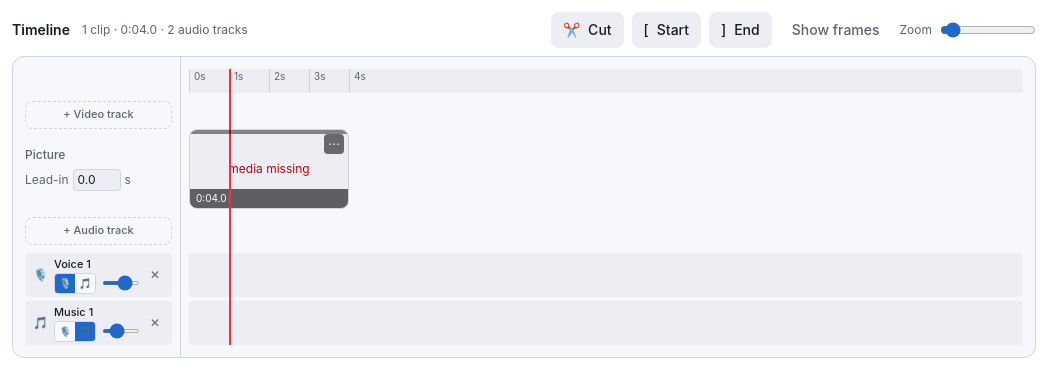
Test: marking an export range › offers Clear range only once something is marked, and puts the whole video back
This screenshot has width=1048, height=375.
Expected: the button "clear range" is not shown
Click the button "[ Start" at coordinates (666, 30), box left=632, top=12, right=701, bottom=48
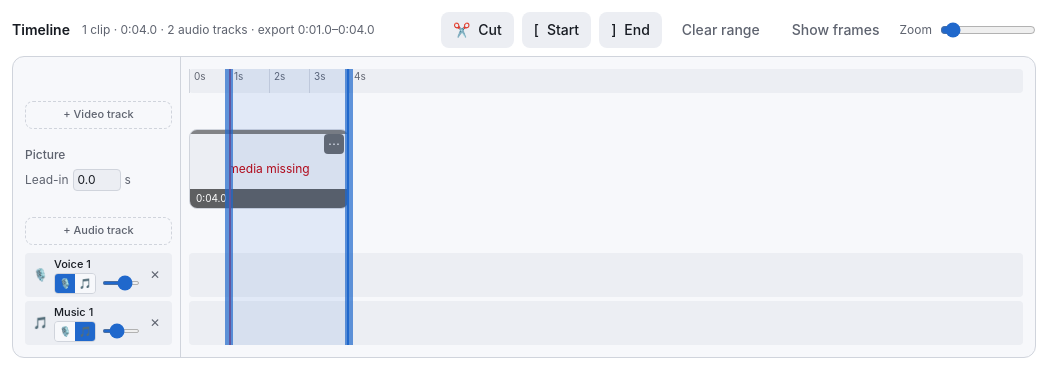
Now the button "Clear range" is shown
Click the button "Clear range" at coordinates (721, 30), box left=670, top=12, right=772, bottom=48
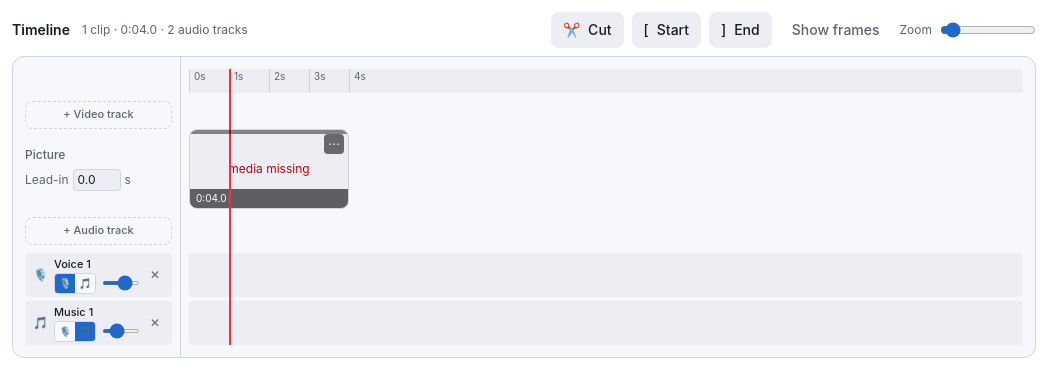
Now the button "Clear range" is gone
